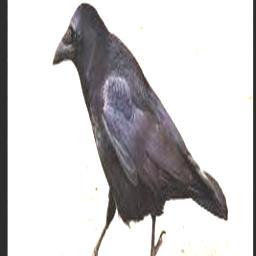Crow: (52, 1, 228, 256)
